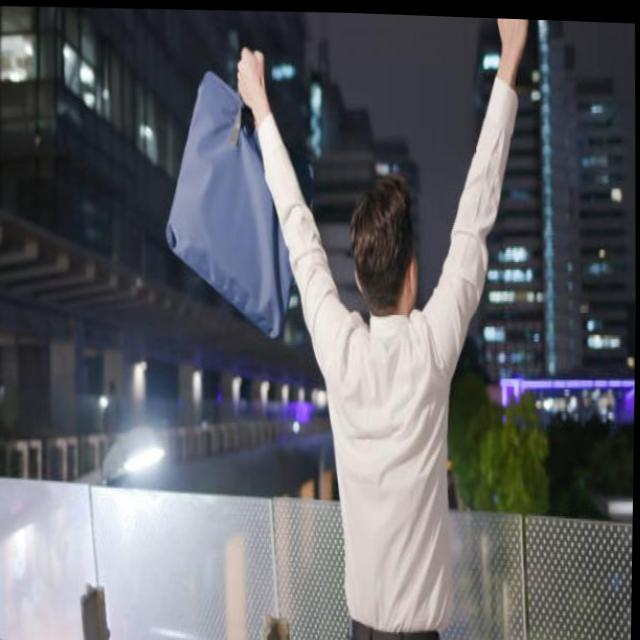no helmet: (338, 167, 429, 311)
